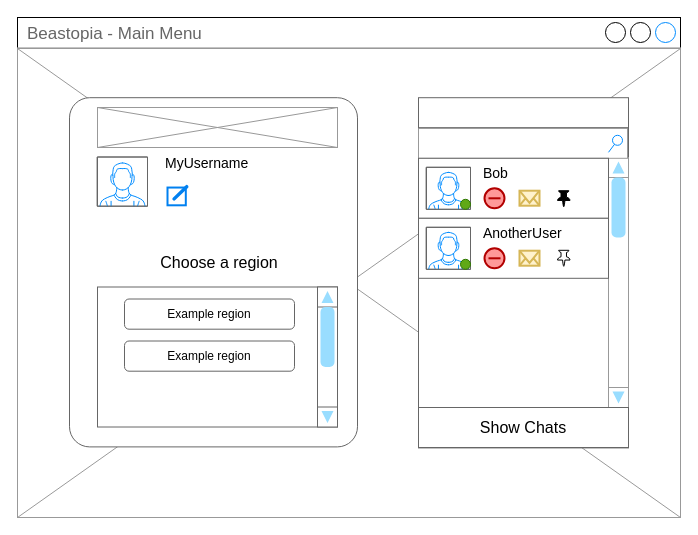
This 698x535 diagram has some shape labels left out. The box of each missing label's shape, as (x1, y1, x2, y2) in pixels:
Friend List: (418, 97, 628, 128)
Search User...: (418, 127, 628, 158)
